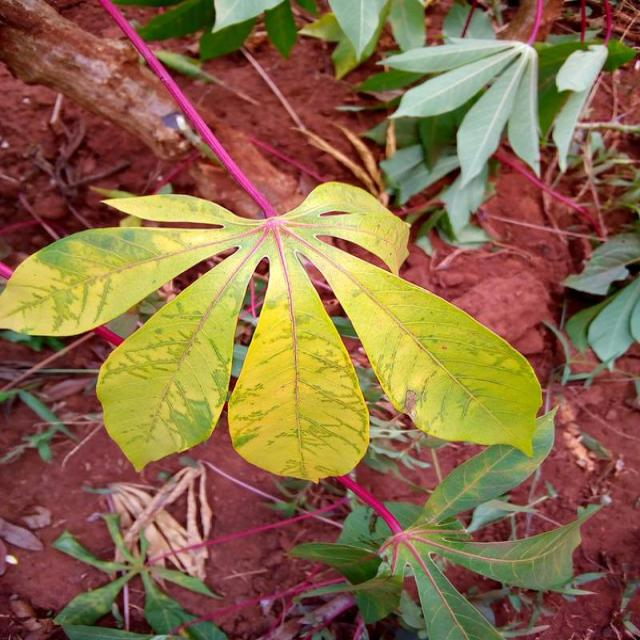cassava leaf: (1, 4, 545, 483), (226, 239, 370, 482)
